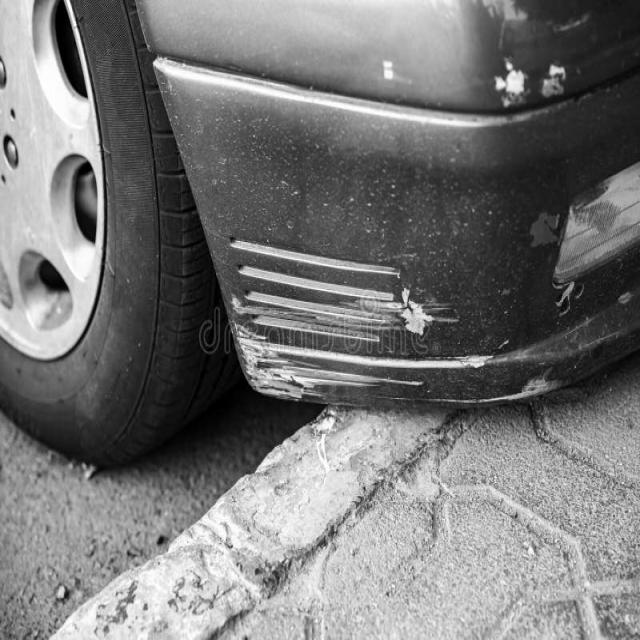scratch: (226, 277, 573, 405), (492, 55, 569, 108), (528, 206, 563, 250)
